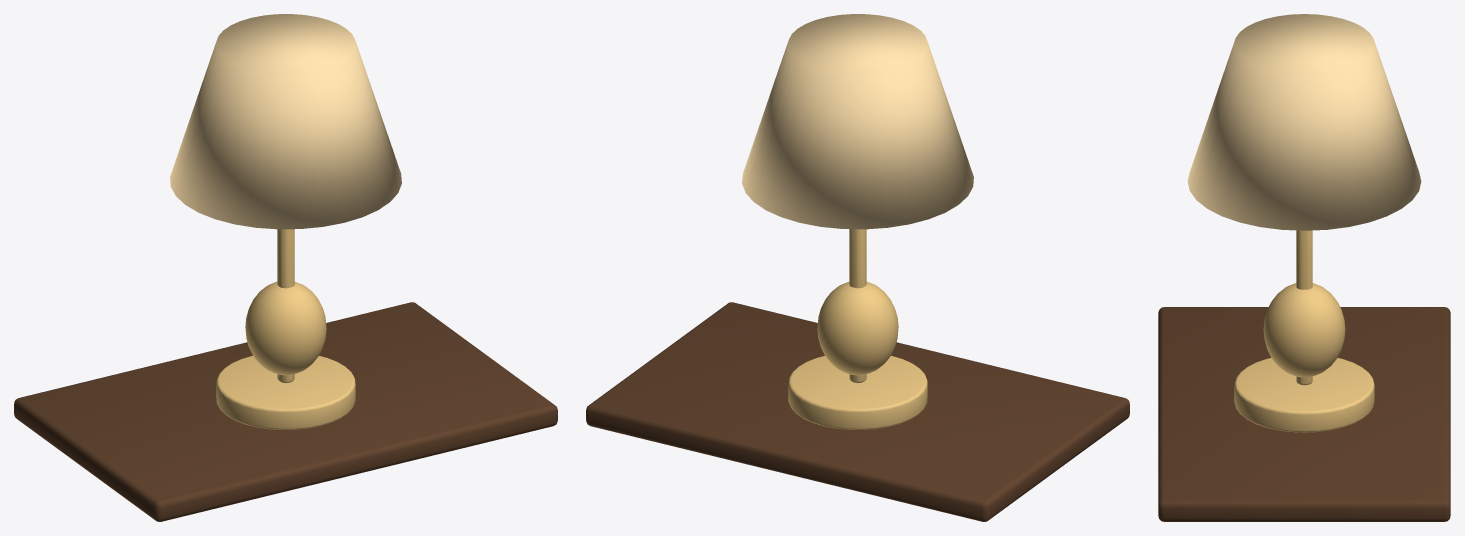
File: lamp.fbx
3 views of the same model, side by side, from view 1: azimuth 30°, elevation 25°; view 2: azimuth 150°, elevation 25°; view 3: azimuth 270°, elevation 25° (orthographic).
Visible parts, largest first — view 1: table, shade, base, belly, stem; view 2: table, shade, base, belly, stem; view 3: table, shade, base, belly, stem.
Part boxes in pixels (box(x1,y1,x2,y2)): table: box(14, 302, 557, 521); shade: box(170, 14, 401, 229); base: box(216, 355, 355, 429); belly: box(245, 281, 326, 375); stem: box(277, 229, 294, 383); table: box(586, 302, 1129, 521); shade: box(742, 14, 973, 229); base: box(788, 355, 927, 429); belly: box(817, 281, 898, 375); stem: box(849, 229, 866, 383); table: box(1158, 307, 1450, 521); shade: box(1187, 14, 1421, 230); base: box(1234, 358, 1374, 432); belly: box(1263, 283, 1345, 377); stem: box(1296, 230, 1312, 385).
Size of what is drawn, in the model's own units: 80 by 72 by 50.
